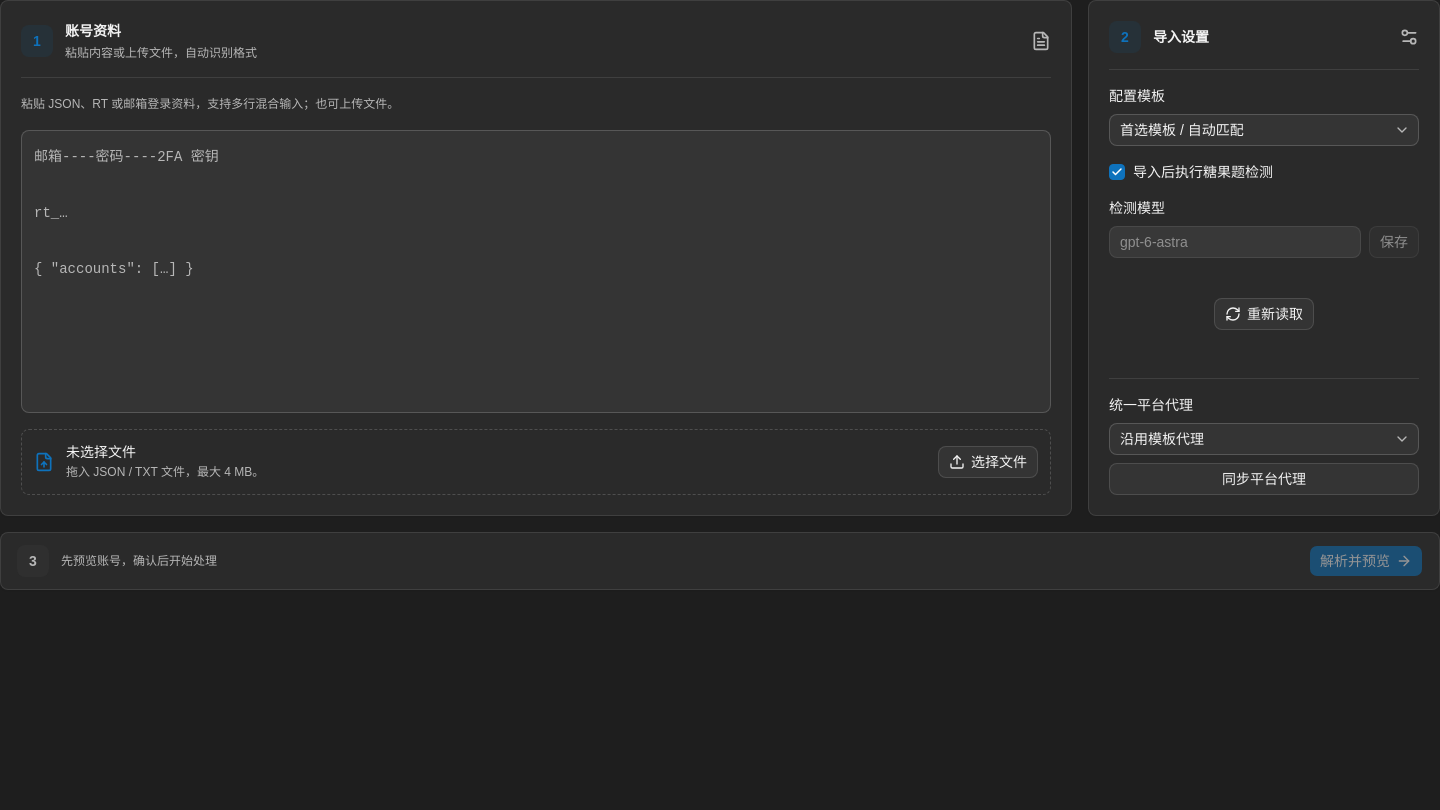
读取检测模型失败时禁止保存和提交，重试后恢复已保存模型
The image size is (1440, 810).
expect the button with aria-label "保存检测模型" is disabled: met, box left=1369, top=226, right=1419, bottom=258
expect the button "解析并预览" is disabled: met, box left=1309, top=545, right=1423, bottom=577
Click the button "重新读取" at (1264, 314), box left=1214, top=298, right=1314, bottom=330
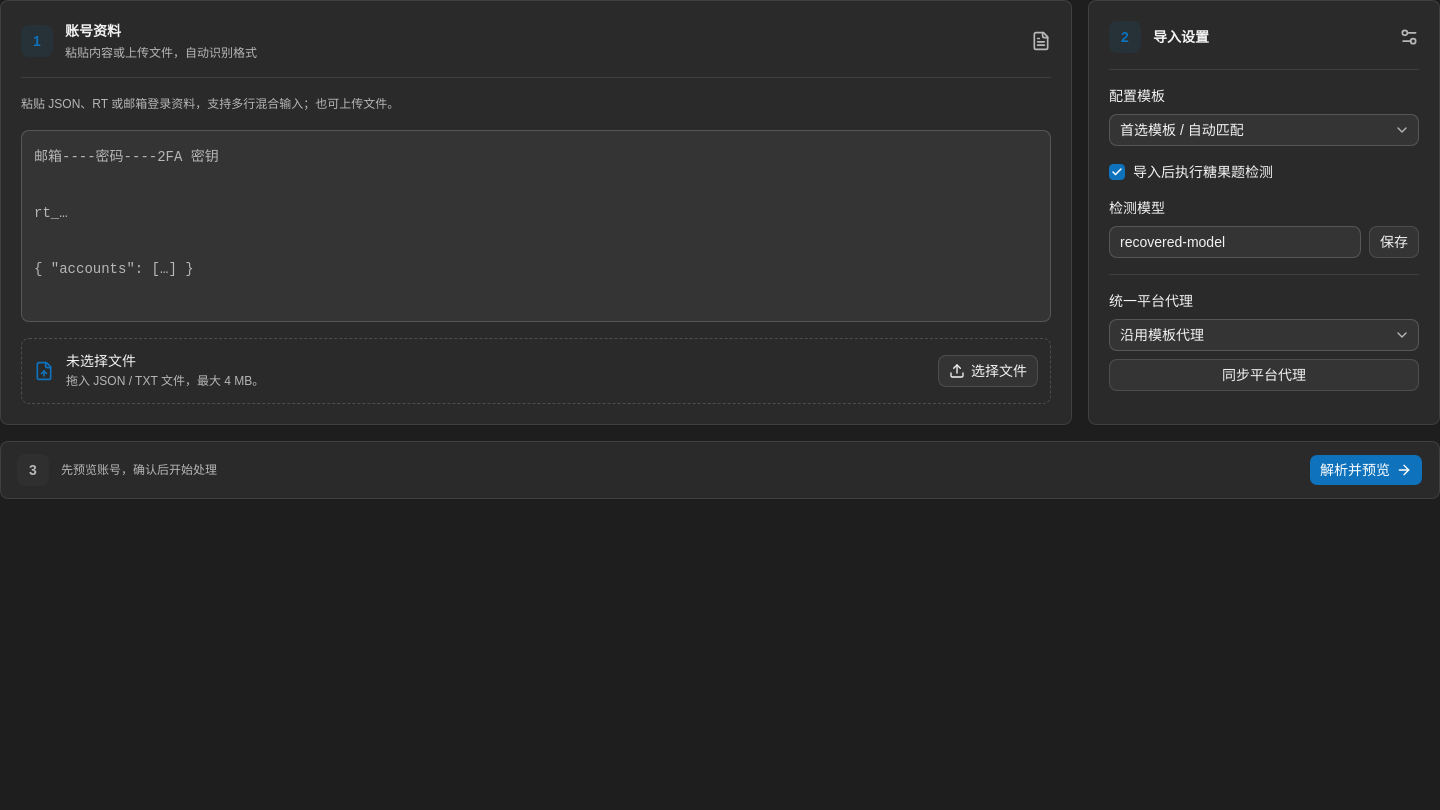
expect the field labelled "检测模型" holds "recovered-model": met, box left=1109, top=226, right=1361, bottom=258
expect the button "解析并预览" is enabled: met, box left=1309, top=454, right=1423, bottom=486
